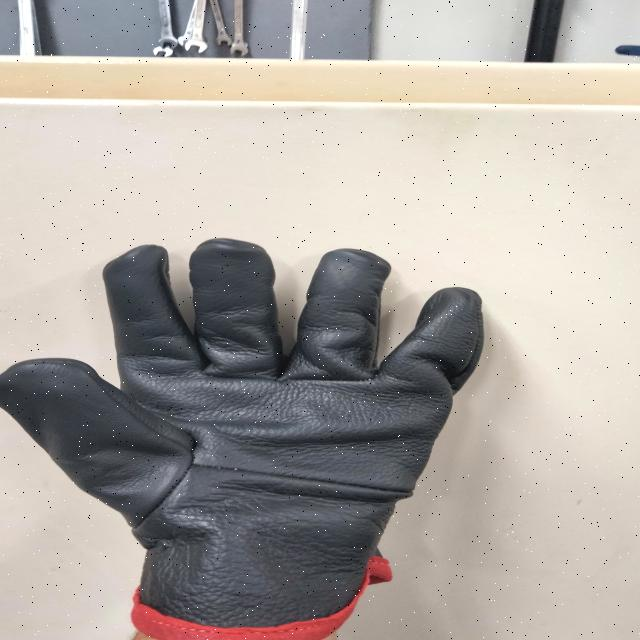Gloves: (0, 232, 497, 634)
